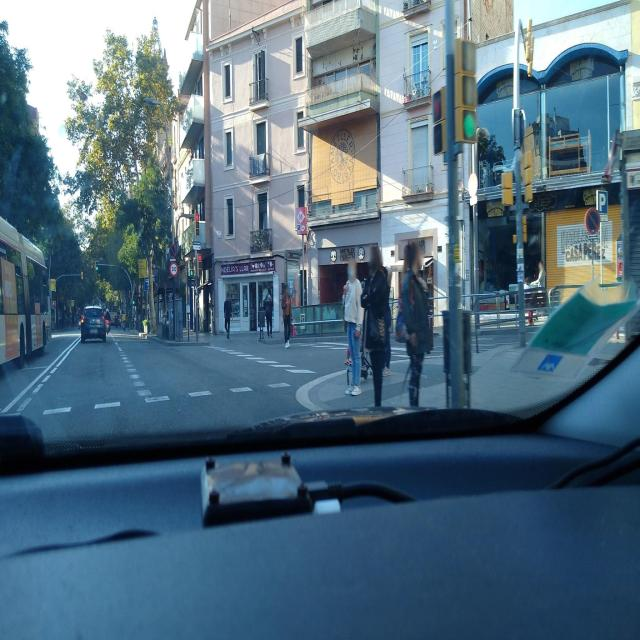bike: (106, 319, 111, 334)
car: (80, 304, 107, 344)
